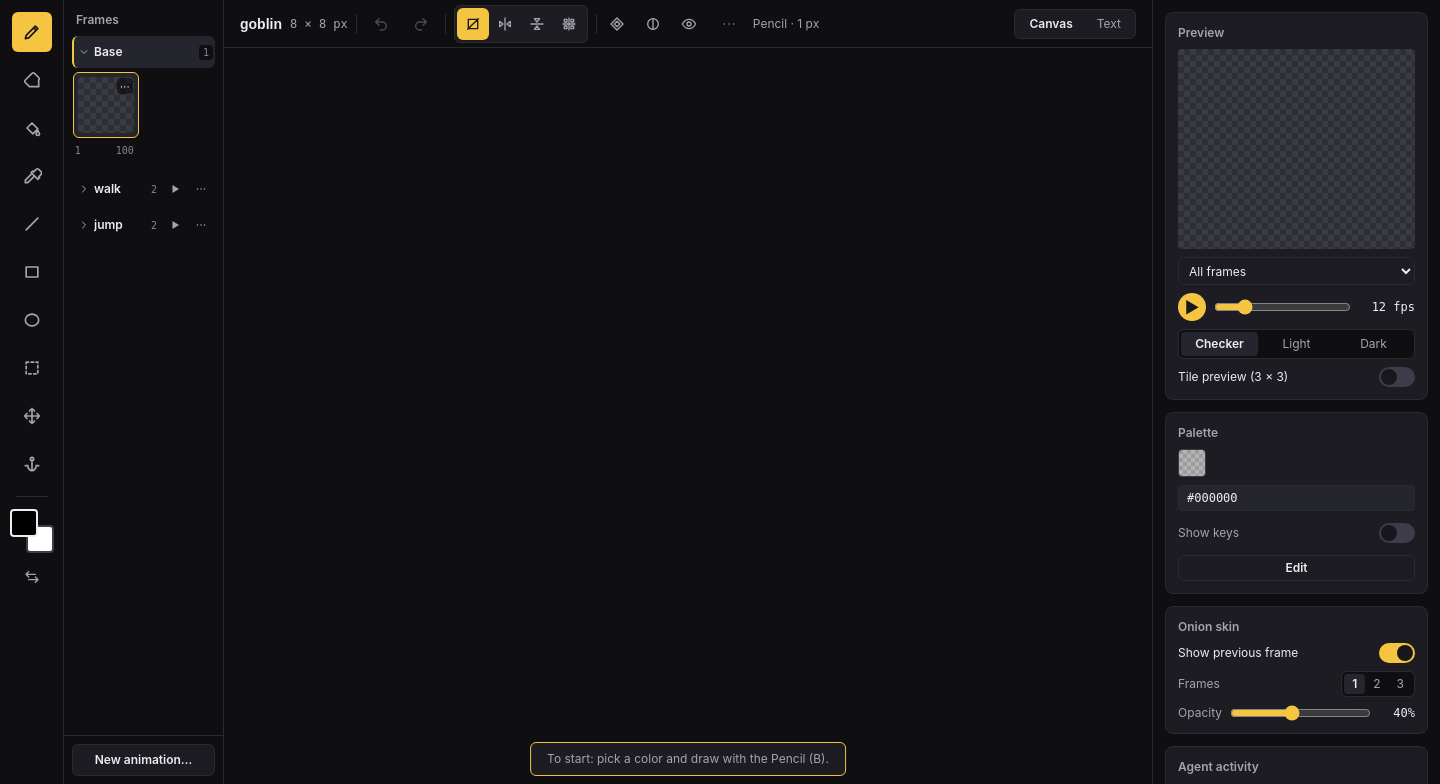
Playing one group › plays only the frames of the group
Click the button named "Play jump" at (175, 225), box [163,213,187,237]
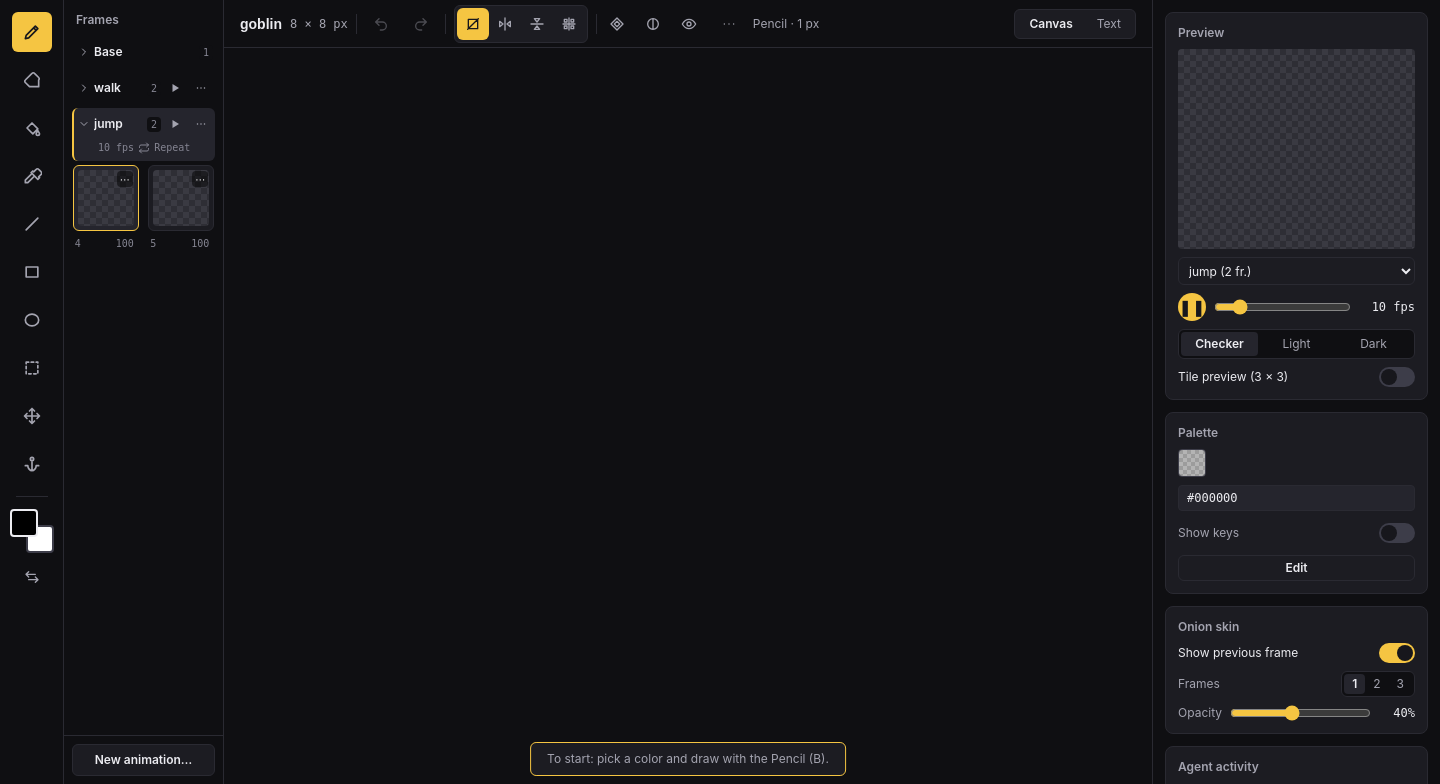
Expected: the button named "Pause" is shown, [1178,293,1206,321]
